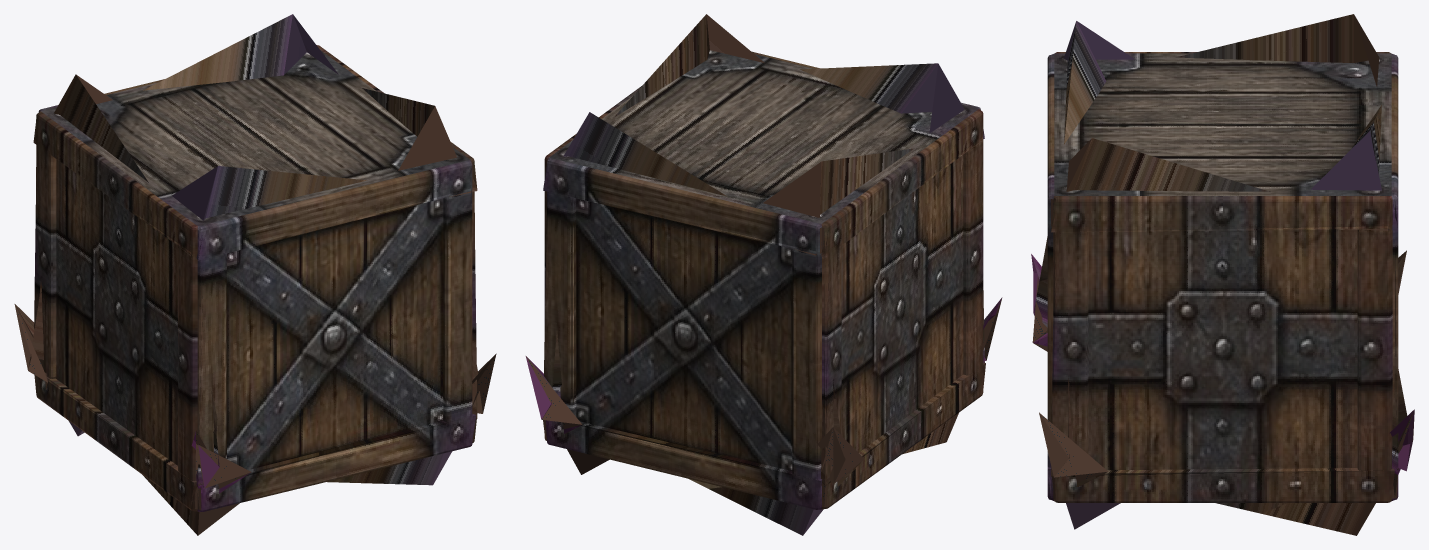
Rendered from crate_ironbound.glb.
The picture shows the model from 3 angles, left to right: view 1: azimuth 30°, elevation 25°; view 2: azimuth 150°, elevation 25°; view 3: azimuth 270°, elevation 25°; orthographic projection. The views are drawn at different scales.
Visible parts, largest first — view 1: body, piece_00, piece_01, piece_02, piece_08, piece_05, piece_10, piece_03, piece_04, piece_09; view 2: body, piece_00, piece_09, piece_03, piece_01, piece_04, piece_05, piece_02, piece_08, piece_11; view 3: body, piece_00, piece_01, piece_05, piece_04, piece_02, piece_10, piece_11.
Boxes of the visible parts, x1,y1,x2,y2 form: body: [33, 45, 477, 511]; piece_00: [108, 340, 496, 535]; piece_01: [277, 91, 477, 287]; piece_02: [118, 157, 322, 307]; piece_08: [116, 253, 324, 444]; piece_05: [147, 14, 383, 119]; piece_10: [321, 268, 476, 388]; piece_03: [14, 289, 116, 448]; piece_04: [34, 74, 191, 190]; piece_09: [34, 162, 118, 356]; body: [543, 50, 985, 509]; piece_00: [525, 309, 997, 488]; piece_09: [707, 229, 901, 401]; piece_03: [701, 360, 900, 535]; piece_01: [617, 14, 852, 138]; piece_04: [709, 144, 909, 273]; piece_05: [544, 98, 765, 257]; piece_02: [801, 63, 984, 228]; piece_08: [897, 189, 1002, 358]; piece_11: [544, 236, 710, 360]; body: [1047, 52, 1398, 502]; piece_00: [1032, 273, 1414, 535]; piece_01: [1047, 97, 1245, 315]; piece_05: [1224, 107, 1398, 293]; piece_04: [1214, 14, 1398, 113]; piece_02: [1047, 21, 1221, 117]; piece_10: [1047, 295, 1250, 392]; piece_11: [1246, 279, 1398, 370].
Size of the model in its own units: 0.9103 by 1.04 by 0.9103.
Materials: 1 (1 with a texture image).
